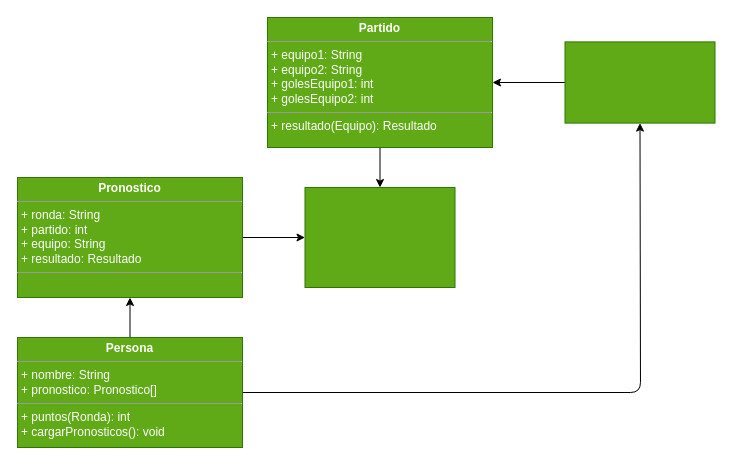
This 733x465 diagram has some shape labels left out. Each missing label, with the centre of its shape:
Resultado <<enum>> ganador perdedor empate: [379,237]
Ronda + partidos: Partido[] + cargarResultados(): void: [639,82]
